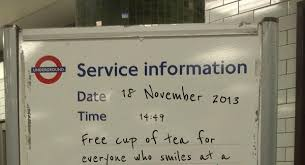London Underground: (32, 53, 66, 87)
